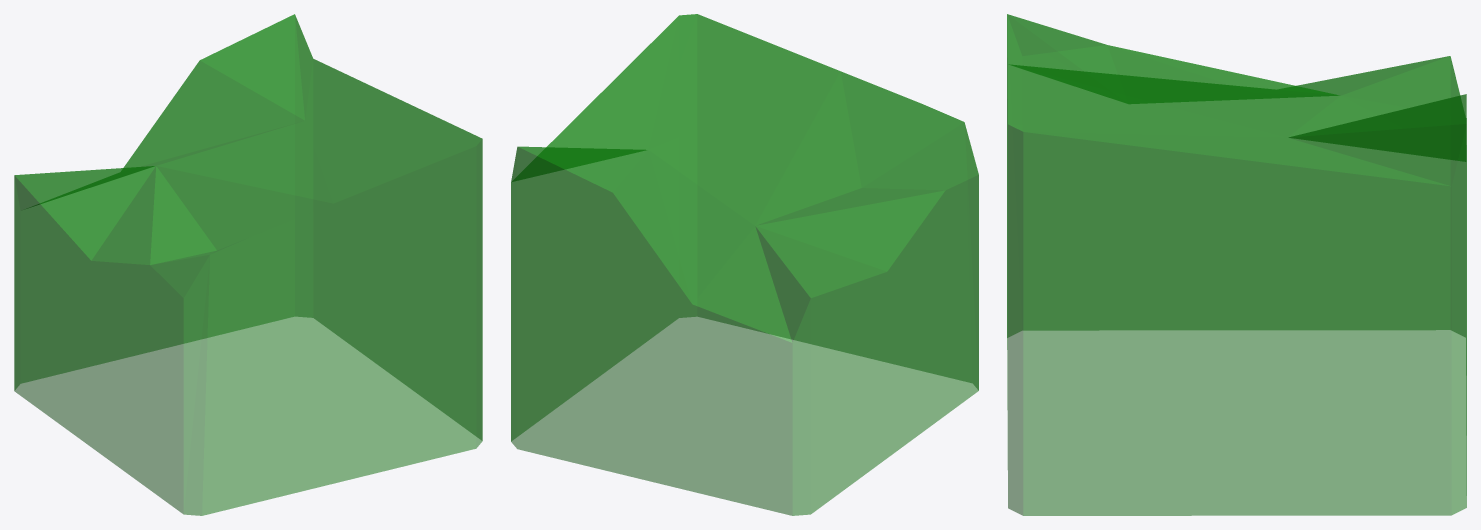
File: AreaB02__NnFz__.obj
3 renders of one model, left to right at view 1: azimuth 30°, elevation 25°; view 2: azimuth 150°, elevation 25°; view 3: azimuth 270°, elevation 25°, orthographic. The views are drawn at different scales.
Size of the model in its own units: 4.06 by 3.91 by 4.25.
